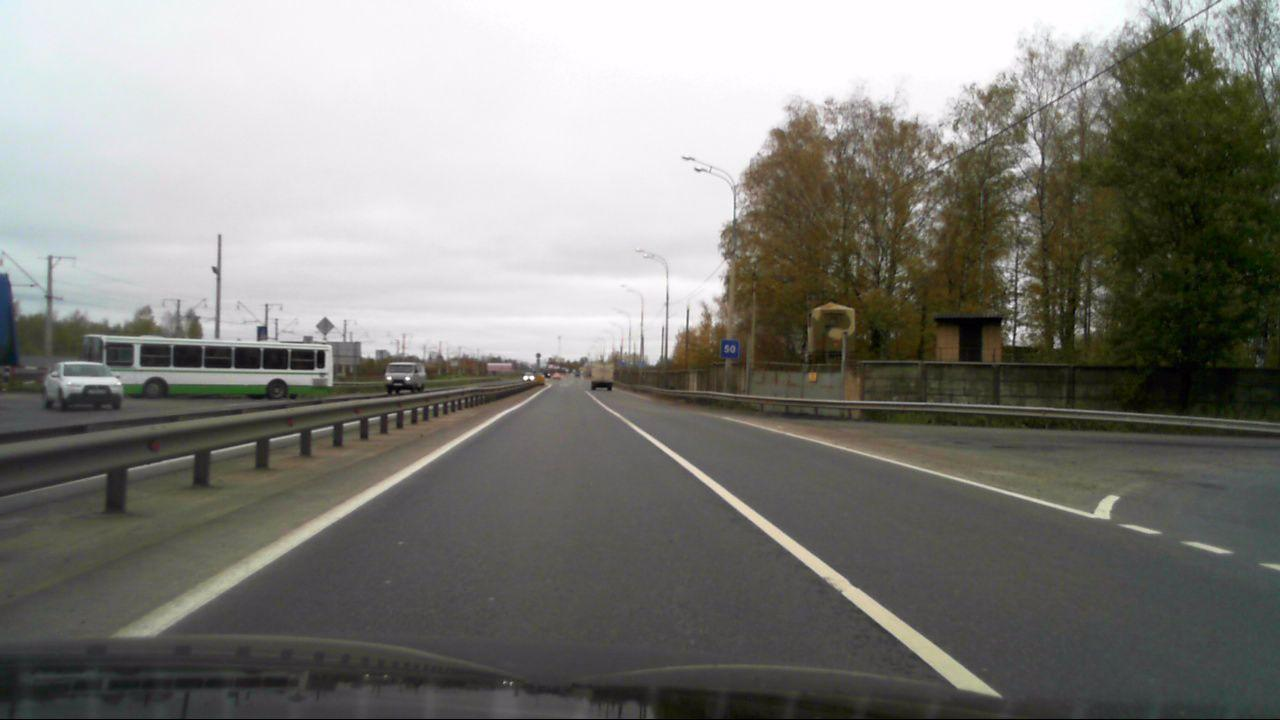6_2: (720, 339, 740, 358)
